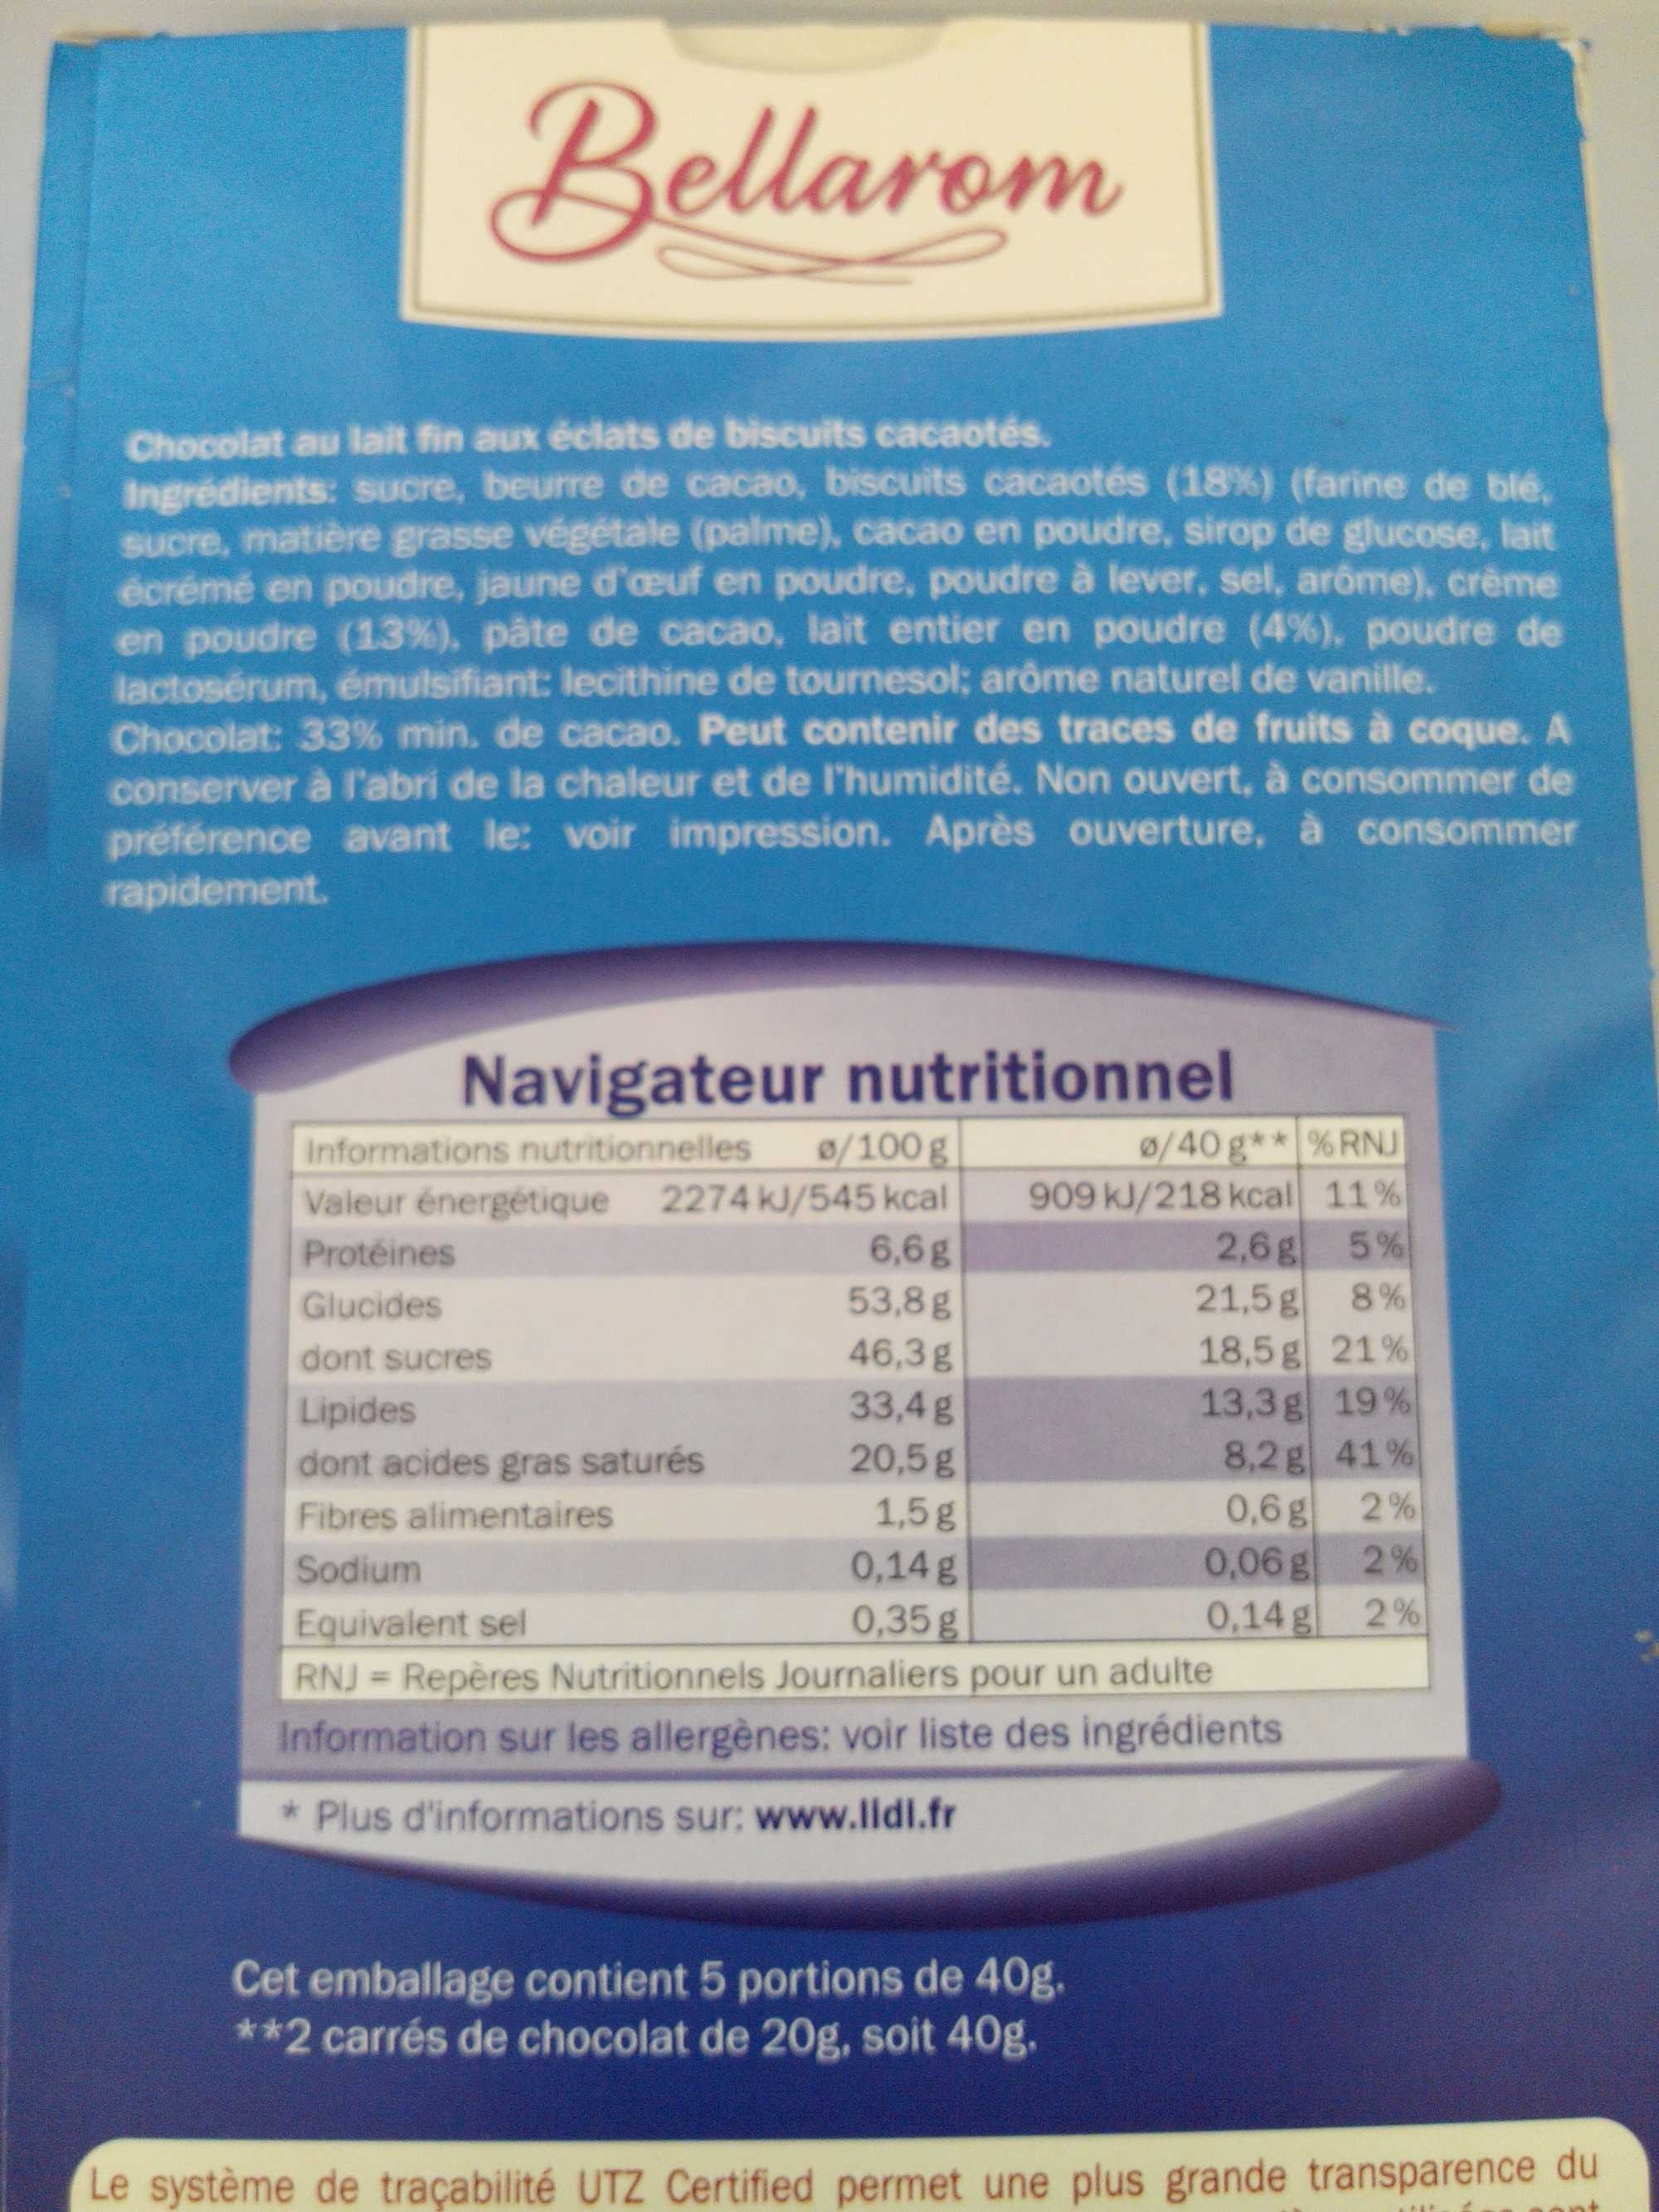column: (301, 1126, 955, 1640), (1012, 1124, 1302, 1635), (1326, 1124, 1420, 1637)
table: (275, 1102, 1429, 1651)
